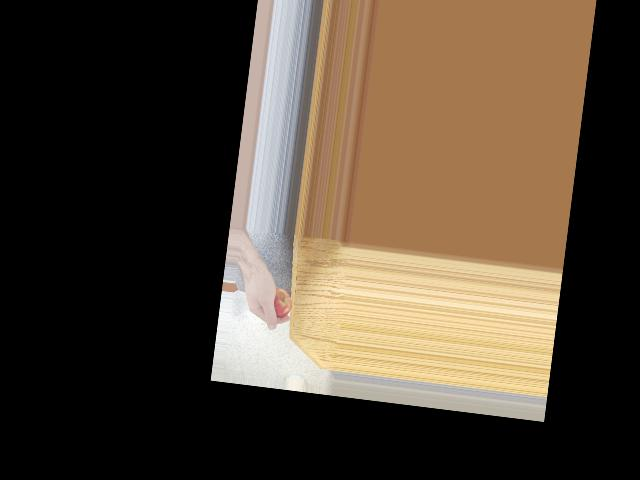apple: (263, 282, 294, 319)
